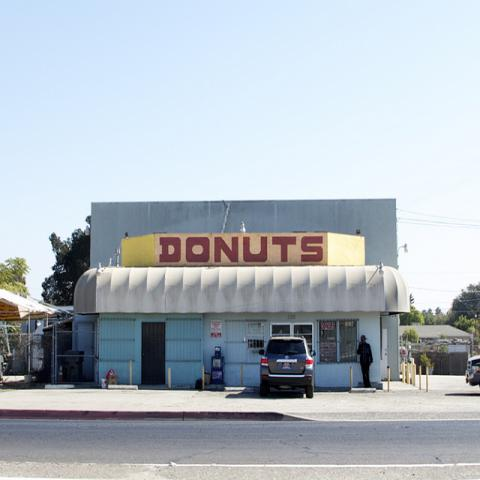car: (258, 336, 316, 398), (465, 355, 479, 388)
truck: (259, 335, 316, 398), (464, 353, 480, 388)
